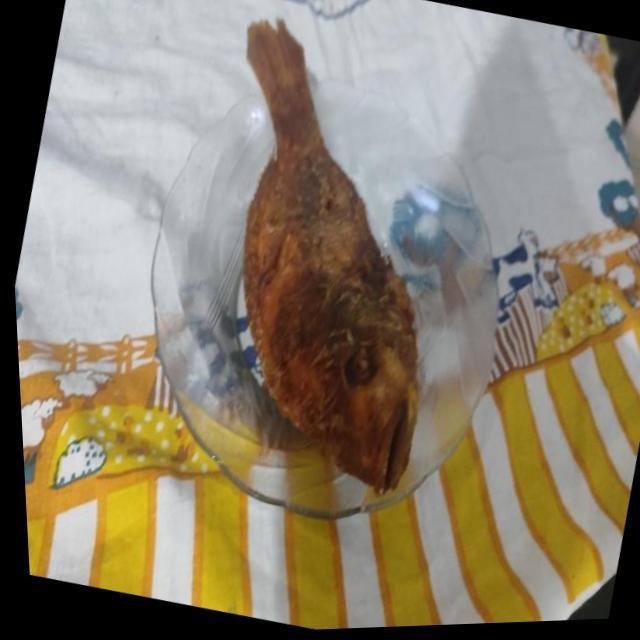ikan_mujair: (243, 21, 417, 492)
